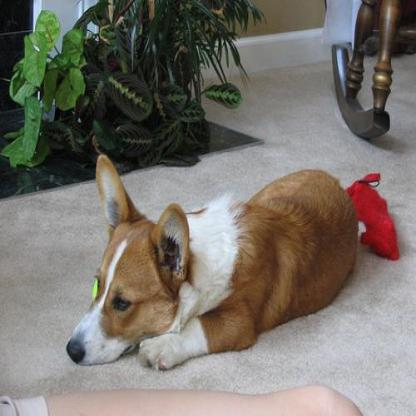Cardigan: (64, 152, 358, 372)
